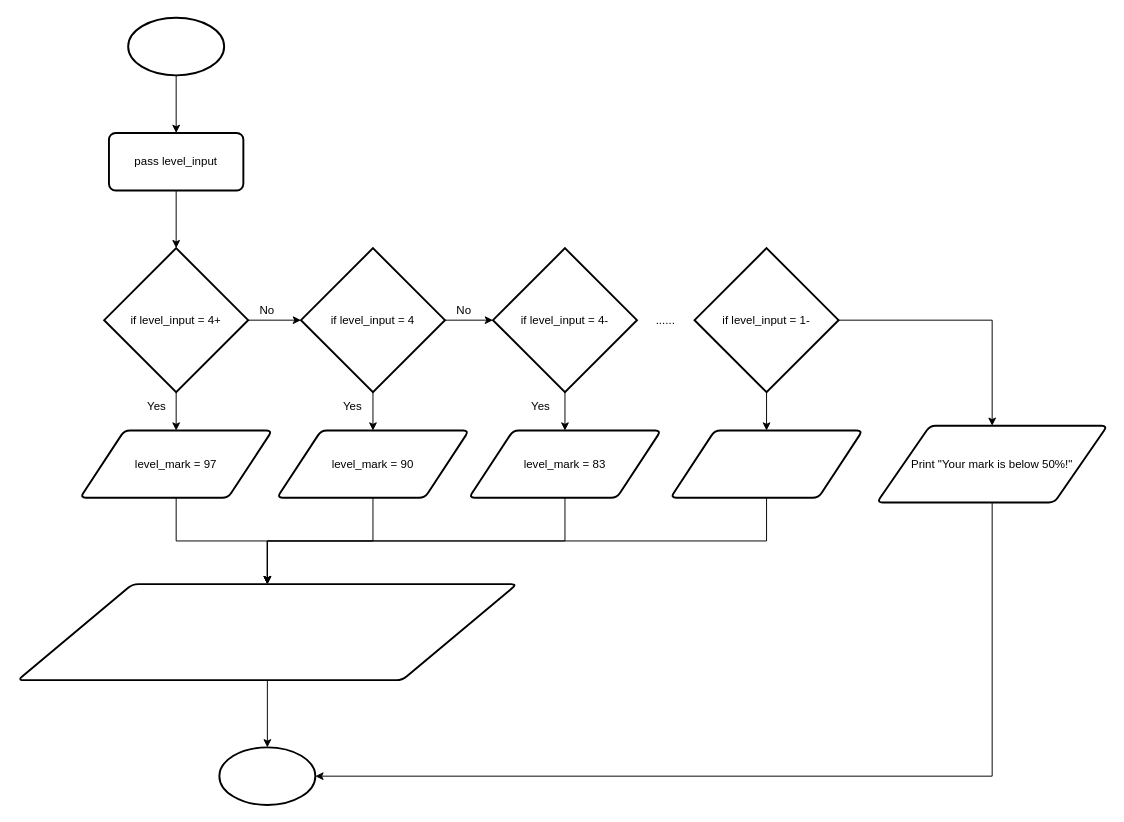
This 1124x822 diagram has some shape labels left out. Each missing label, with the centre of its shape:
level_mark = 51: (x=766, y=463)
Print "Level level_input has a middle percentage of level_mark%.": (x=266, y=632)
Start: (x=176, y=46)
Stop: (x=267, y=775)
